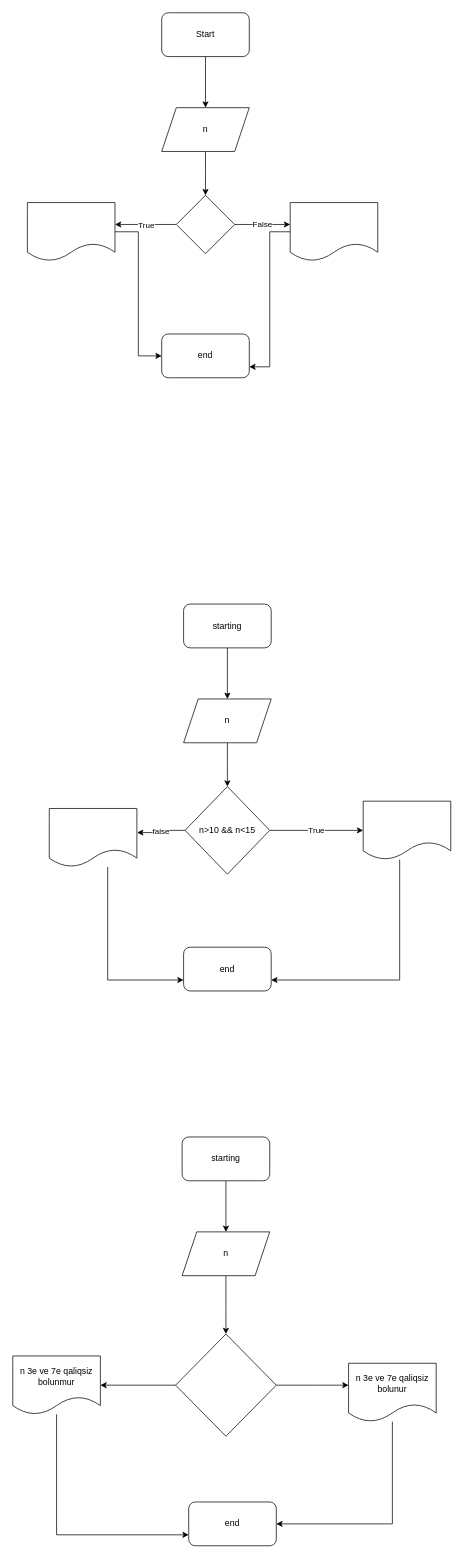
Image size: 464x1559. Some labels were removed from this diagram. The shapes that lost their labels are listed below. From the top down, each one's centre as x and y in pixels, then its label:
point 71,231: eded 3e bolunur
point 205,224: n%3==0
point 333,231: Eded 3e bolunmur
point 93,837: Eded 10dan boyuk 15den kicik deyil
point 406,830: Eded 10dan boyuk 15den kicikdir
point 225,1384: n%3 ==0 && n%7==0
